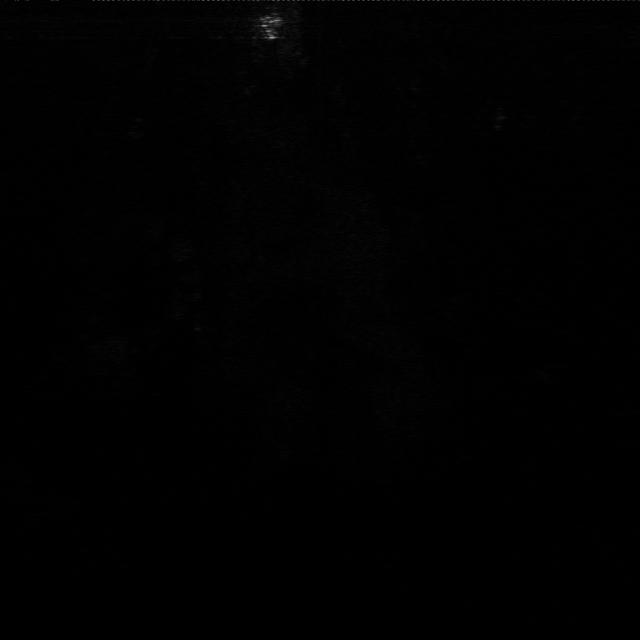rov: (254, 13, 284, 42)
